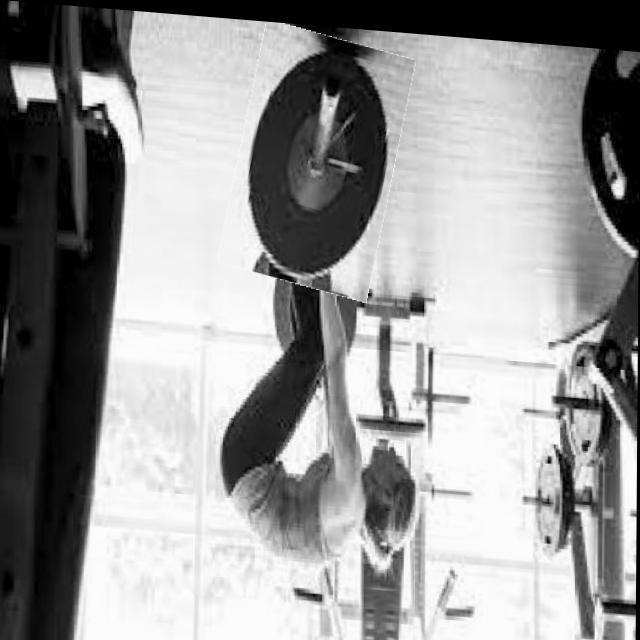barbell: (229, 20, 405, 294)
